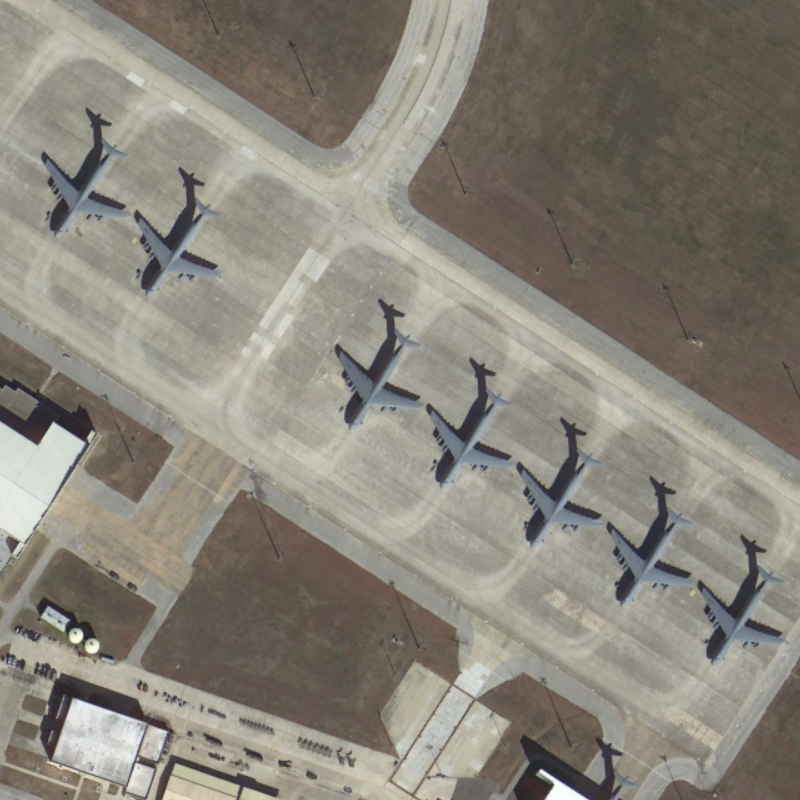A4: (694, 552, 795, 673), (603, 492, 698, 619), (126, 189, 226, 305), (328, 319, 424, 439), (423, 376, 515, 494), (515, 435, 607, 551), (37, 128, 131, 241)
